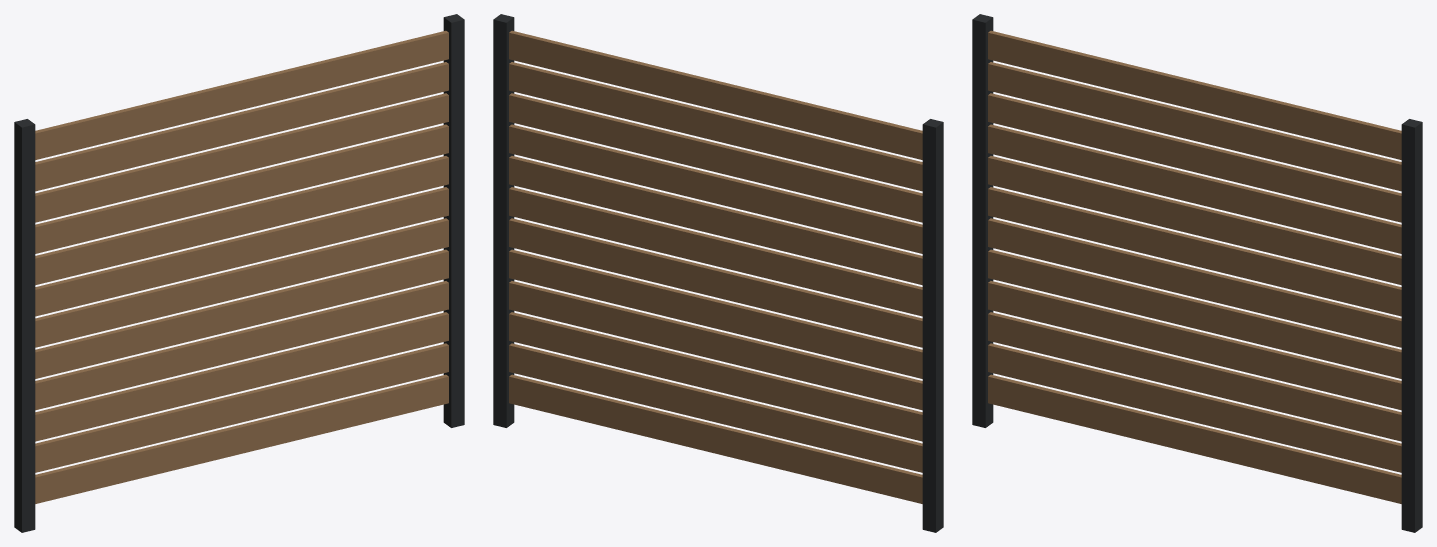
File: fence.glb
3 renders of one model, left to right at view 1: azimuth 30°, elevation 25°; view 2: azimuth 150°, elevation 25°; view 3: azimuth 330°, elevation 25°, orthographic.
Visible parts, largest first — view 1: slat, metal.002; view 2: slat, metal.002; view 3: slat, metal.002.
Part boxes in pixels (left/top/right/bottom): slat: left=35, top=30, right=448, bottom=503; metal.002: left=14, top=14, right=464, bottom=532; slat: left=509, top=30, right=922, bottom=503; metal.002: left=493, top=14, right=943, bottom=532; slat: left=988, top=30, right=1401, bottom=503; metal.002: left=972, top=14, right=1422, bottom=532.
Bounding box in the file's own units: 2 × 1.75 × 0.06.
